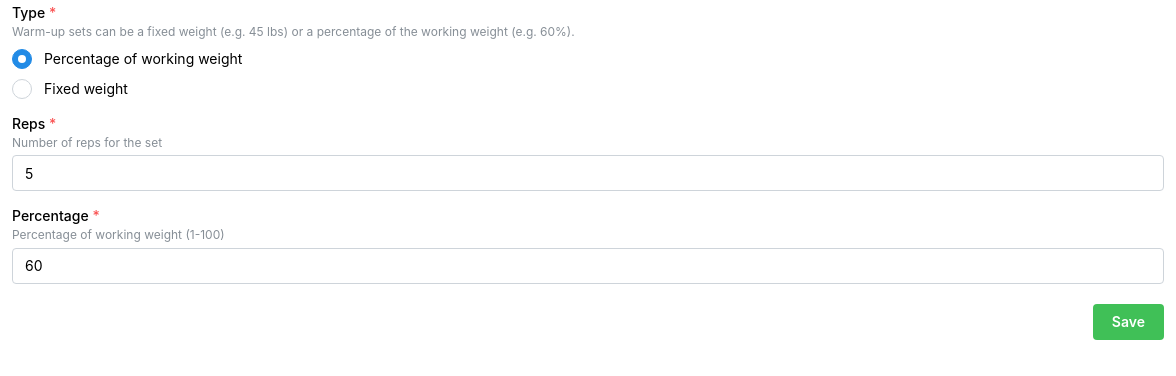
Test: WarmUpSetForm › validation › disables the Save button when Reps is cleared
Clear the field labelled "Reps" at (588, 173), box [12,155,1164,191]
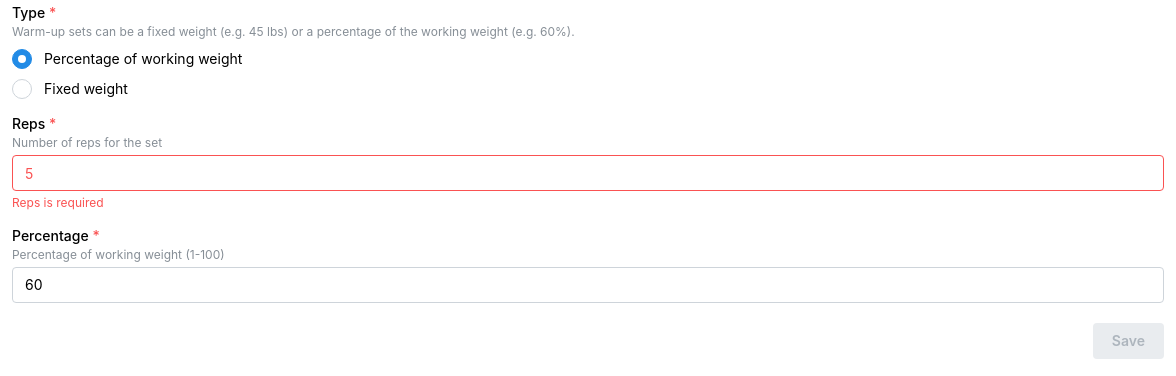
Expected: the button "Save" is disabled, [1093,323,1164,359]
